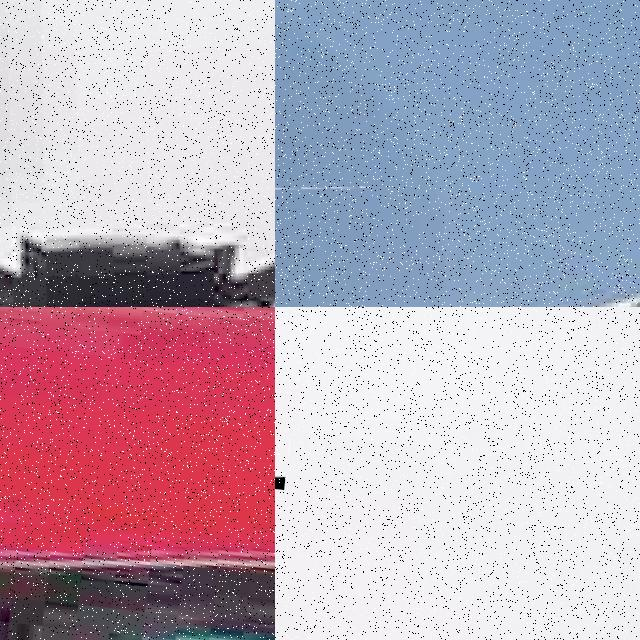drone: (0, 0, 275, 307), (275, 172, 640, 307)
